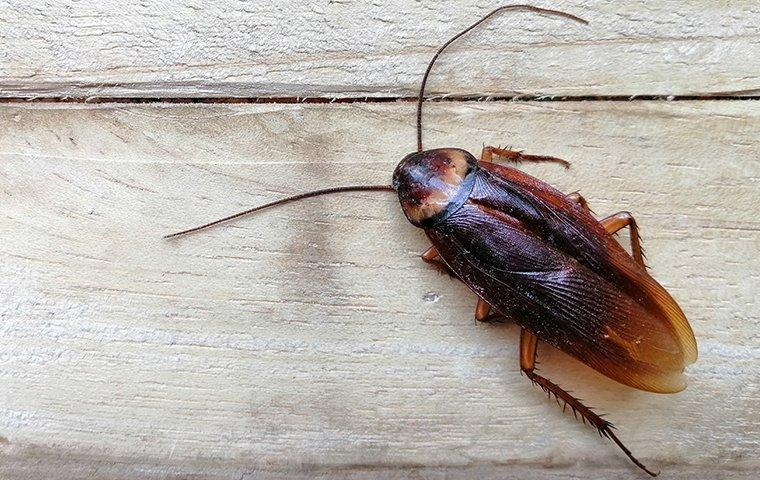cockroach: (388, 144, 700, 398)
